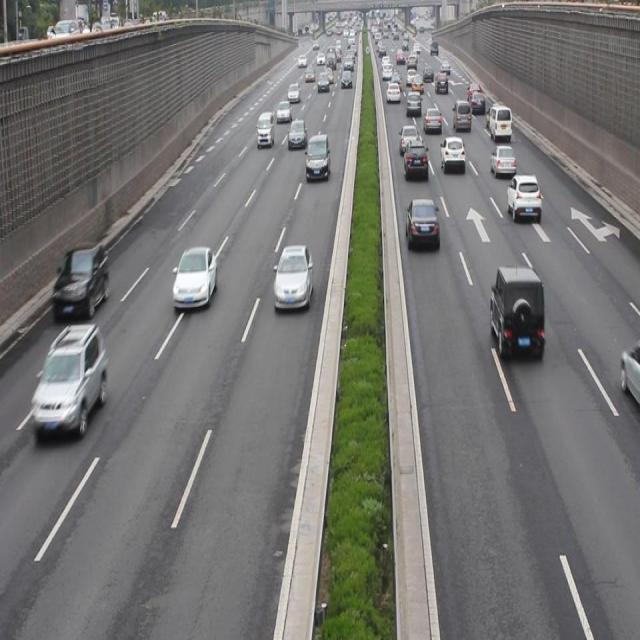car: (31, 323, 106, 436), (489, 265, 544, 361), (52, 244, 109, 322), (172, 246, 216, 310), (273, 244, 313, 312), (405, 196, 438, 250), (505, 173, 540, 220), (403, 140, 428, 180), (440, 135, 465, 173), (489, 144, 515, 176), (398, 122, 420, 155), (452, 98, 471, 132), (287, 117, 306, 148), (423, 105, 442, 133)
truck: (305, 132, 330, 182), (488, 104, 512, 140), (256, 111, 274, 147)
